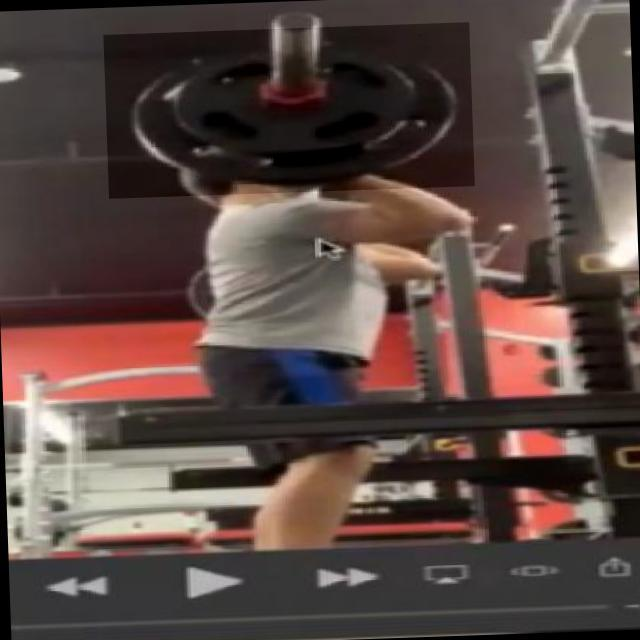barbell: (104, 23, 476, 200)
